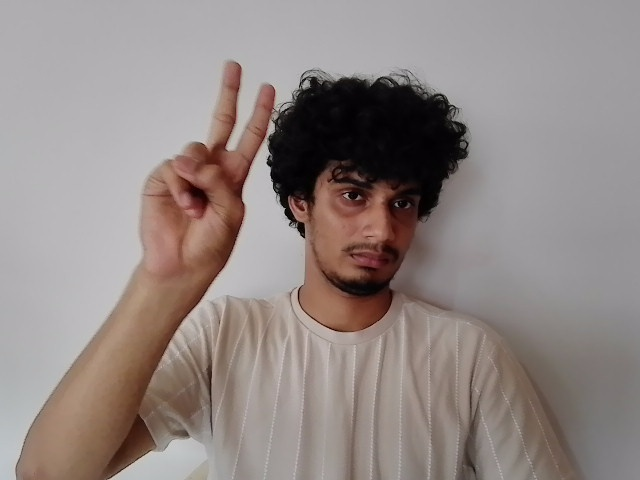travel: (134, 59, 280, 277)
